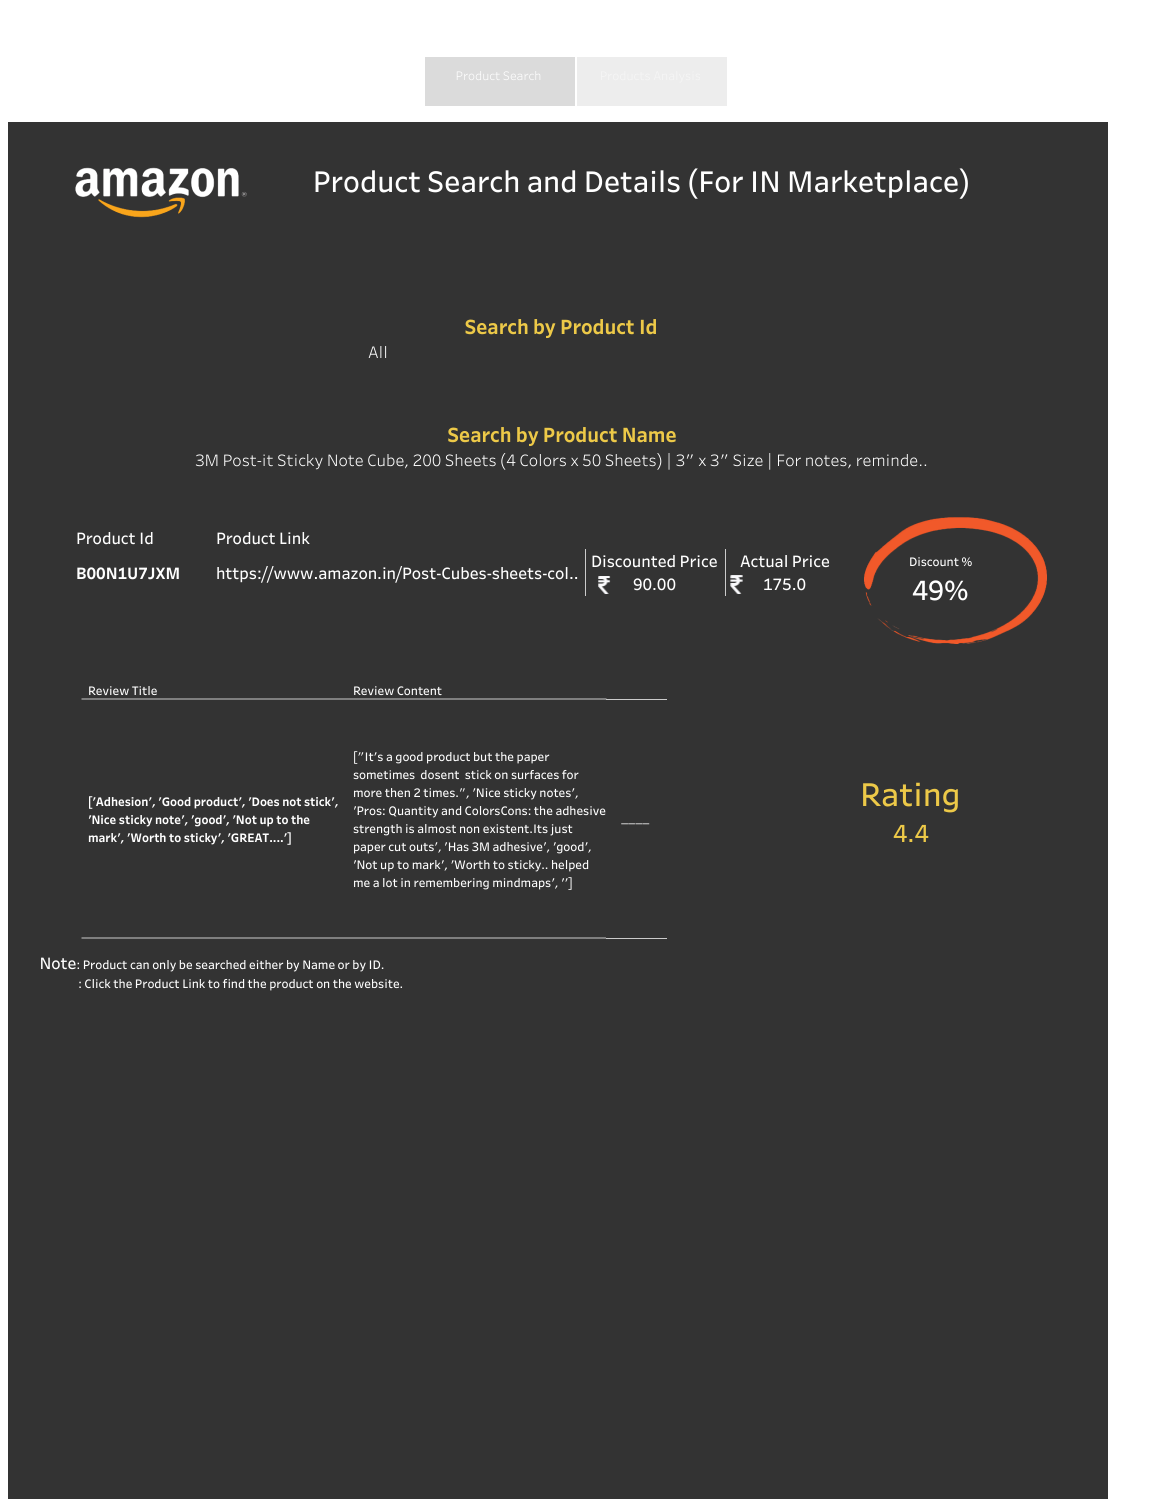

What the dashboard file says about the page in this screenshot:
{"tool":"tableau","page":{"name":"Product Search","canvas":[1100,1500],"ordinal":1},"visuals":[{"type":"filter","title":"Sheet 2","param":"[federated.0ubm9c90vljxvj1cn73401m5b8h4].[none:product_id:nk]","box":[341,189,390,99]},{"type":"filter","title":"Sheet 2","param":"[federated.0ubm9c90vljxvj1cn73401m5b8h4].[none:product_name:nk]","box":[168,297,738,99]},{"type":"image","param":"Image/circle 1.png","box":[839,395,183,203]},{"type":"worksheet","title":"Sheet 2","mark":"Automatic","rows":["product_id","product_link"],"box":[45,407,657,67]},{"type":"worksheet","title":"Sheet 5","mark":"Automatic","box":[710,427,110,100]},{"type":"worksheet","title":"Sheet 8","mark":"Automatic","box":[876,430,145,58]},{"type":"image","param":"Image/rupee-1.png","box":[702,452,22,27]},{"type":"image","param":"Image/rupee-1.png","box":[570,453,21,37]},{"type":"worksheet","title":"Sheet 4","mark":"Automatic","rows":["review_title","review_content"],"box":[57,557,658,263]},{"type":"worksheet","title":"Sheet 7","mark":"Automatic","box":[826,649,143,163]},{"type":"text","box":[12,813,533,72]}]}

Visuals, with their boxes on the page's 1100x1500 design canvas (x1, y1, x2, y2). These are canvas units, not pixel positions in the 1149x1499 screenshot, which may show the page scaled, cropped or inside an application window:
"Sheet 2" filter: locate(341, 189, 731, 288)
"Sheet 2" filter: locate(168, 297, 906, 396)
image: locate(839, 395, 1022, 598)
"Sheet 2" worksheet: locate(45, 407, 702, 474)
"Sheet 5" worksheet: locate(710, 427, 820, 527)
"Sheet 8" worksheet: locate(876, 430, 1021, 488)
image: locate(702, 452, 724, 479)
image: locate(570, 453, 591, 490)
"Sheet 4" worksheet: locate(57, 557, 715, 820)
"Sheet 7" worksheet: locate(826, 649, 969, 812)
text: locate(12, 813, 545, 885)
